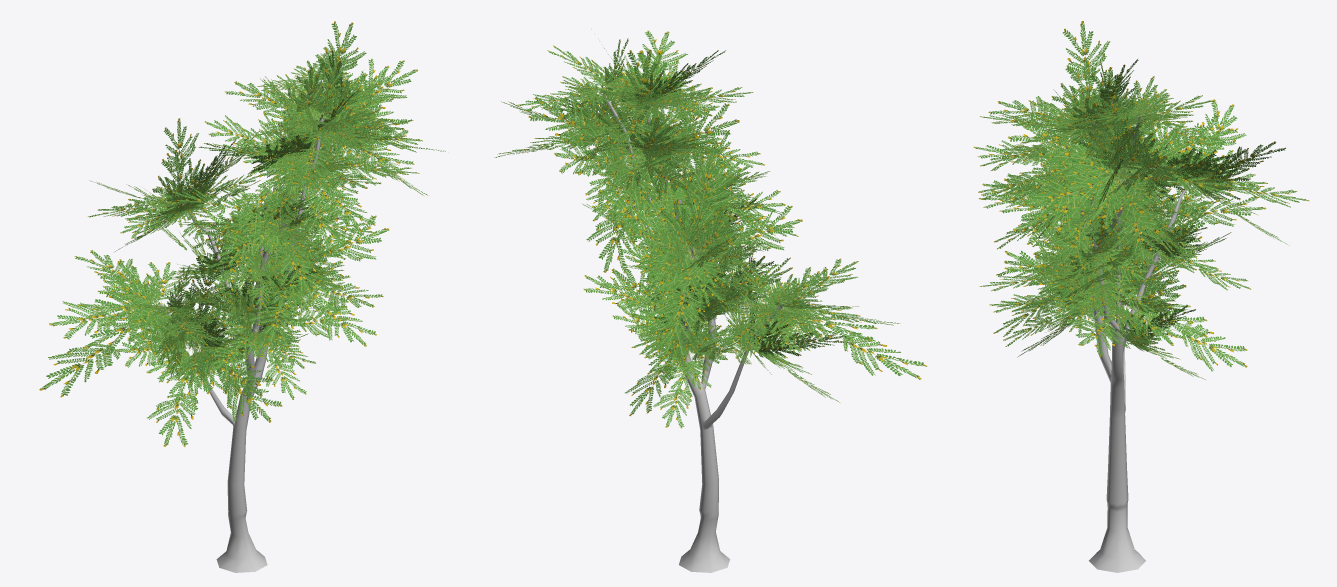
Rendered from ACACIAAMARILLA_LISTO_INTEGRACION.fbx.
3 views of the same model, side by side, from view 1: azimuth 30°, elevation 25°; view 2: azimuth 150°, elevation 25°; view 3: azimuth 270°, elevation 25° (orthographic). The views are drawn at different scales.
Parts seen in each view (by area): view 1: ACACIA_LOD0; view 2: ACACIA_LOD0; view 3: ACACIA_LOD0.
Boxes of the visible parts, bbox=[...] form: ACACIA_LOD0: bbox=[39, 21, 445, 572]; ACACIA_LOD0: bbox=[494, 30, 927, 572]; ACACIA_LOD0: bbox=[973, 21, 1309, 572].
Size of what is drawn, in the model's own units: 3.23 by 3.87 by 2.21.
